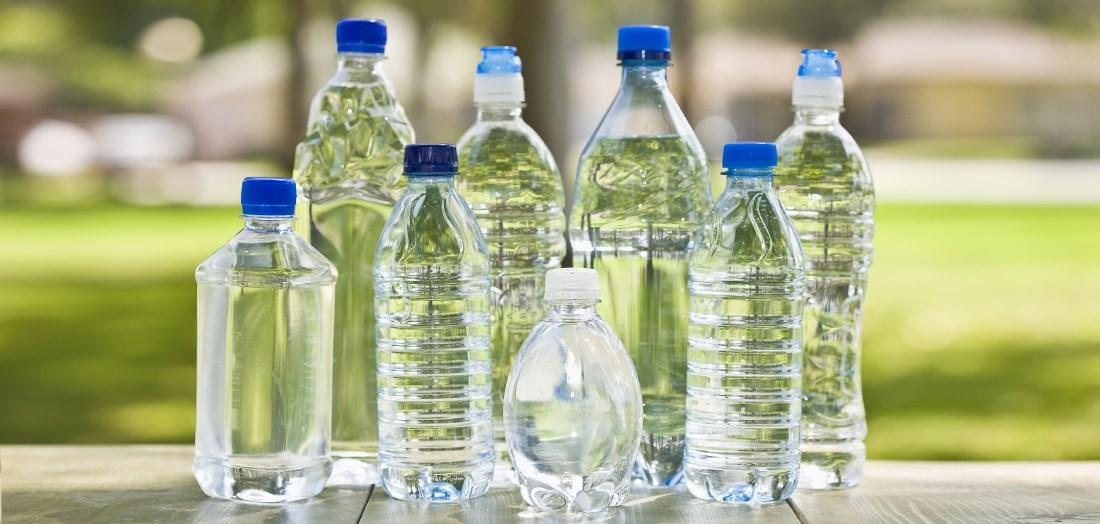plastic: (719, 50, 874, 489), (375, 48, 518, 500), (570, 25, 710, 485), (193, 177, 335, 502), (504, 267, 641, 512)
